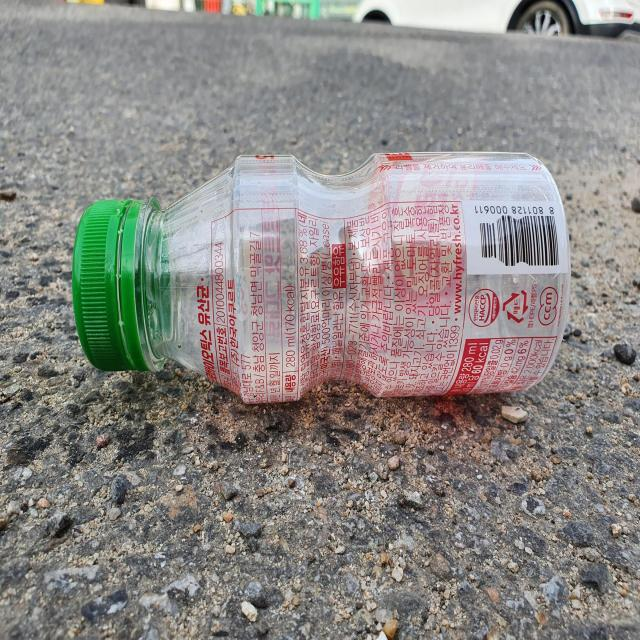plastic: (71, 152, 571, 404)
